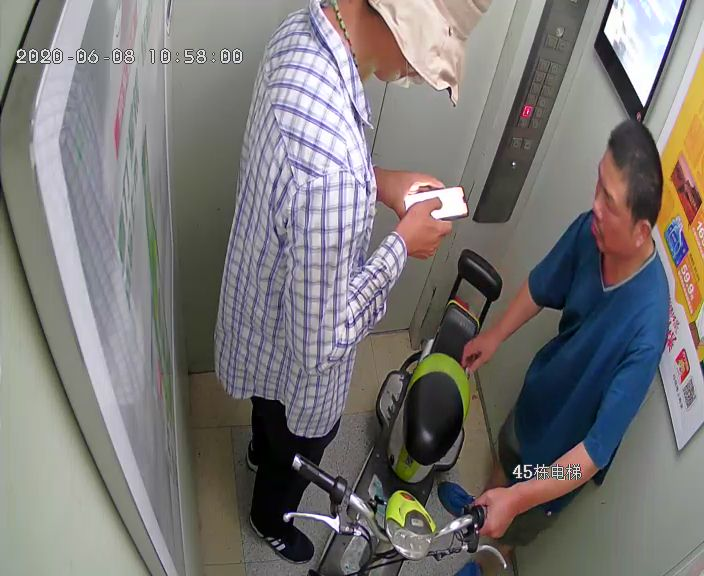Electric-bicycle: (316, 254, 500, 576)
